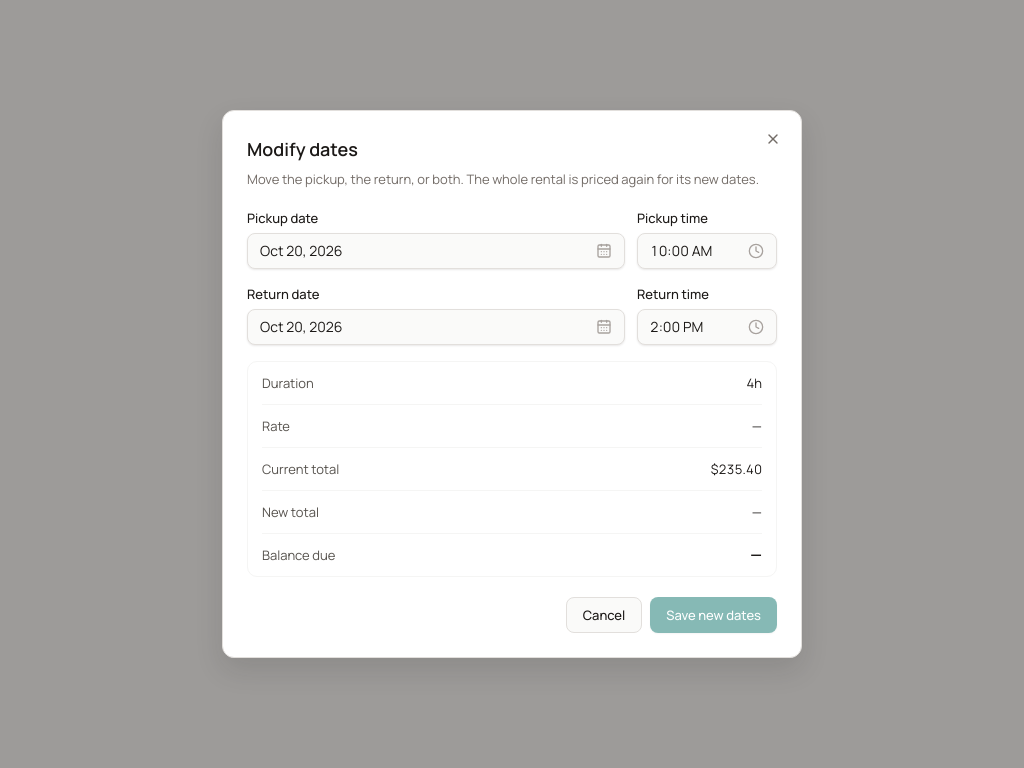
Test: BookingDatesDialog › offers no return time at or before the pickup on the same day
Click the button named "Return time": click(707, 327) [637,309,777,345]
(page scrolled)
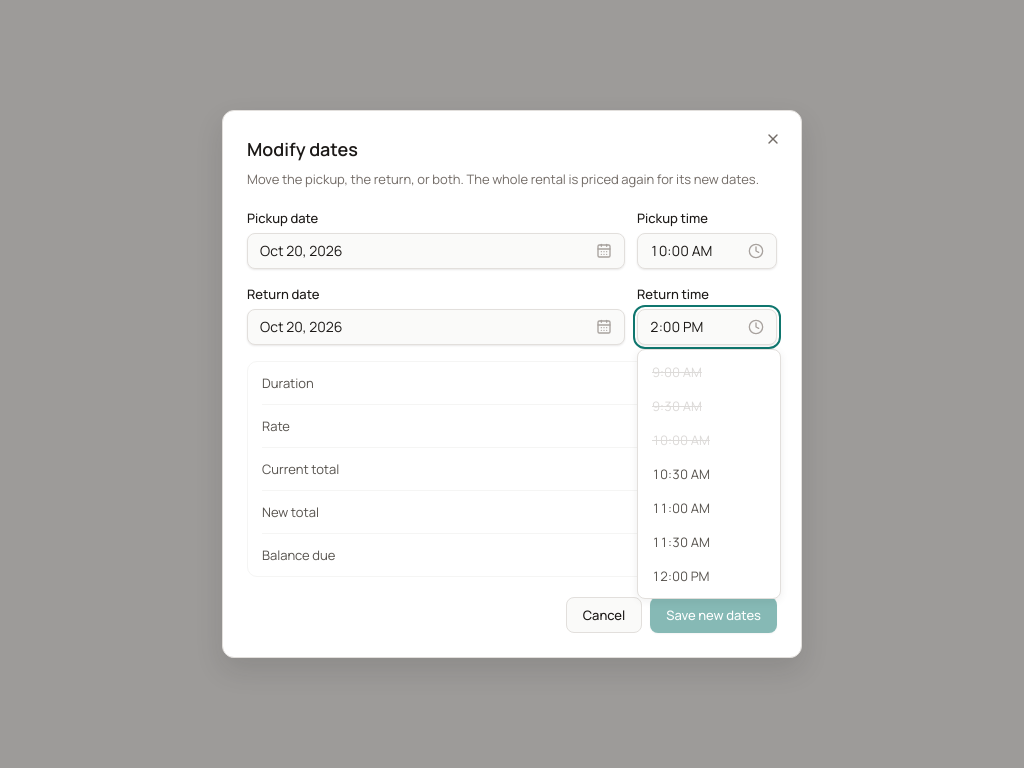
Expected: the option "9:00 AM" is disabled, [642,355,776,389]
Expected: the option "10:00 AM" is disabled, [642,423,776,457]
Expected: the option "10:30 AM" is enabled, [642,457,776,491]
